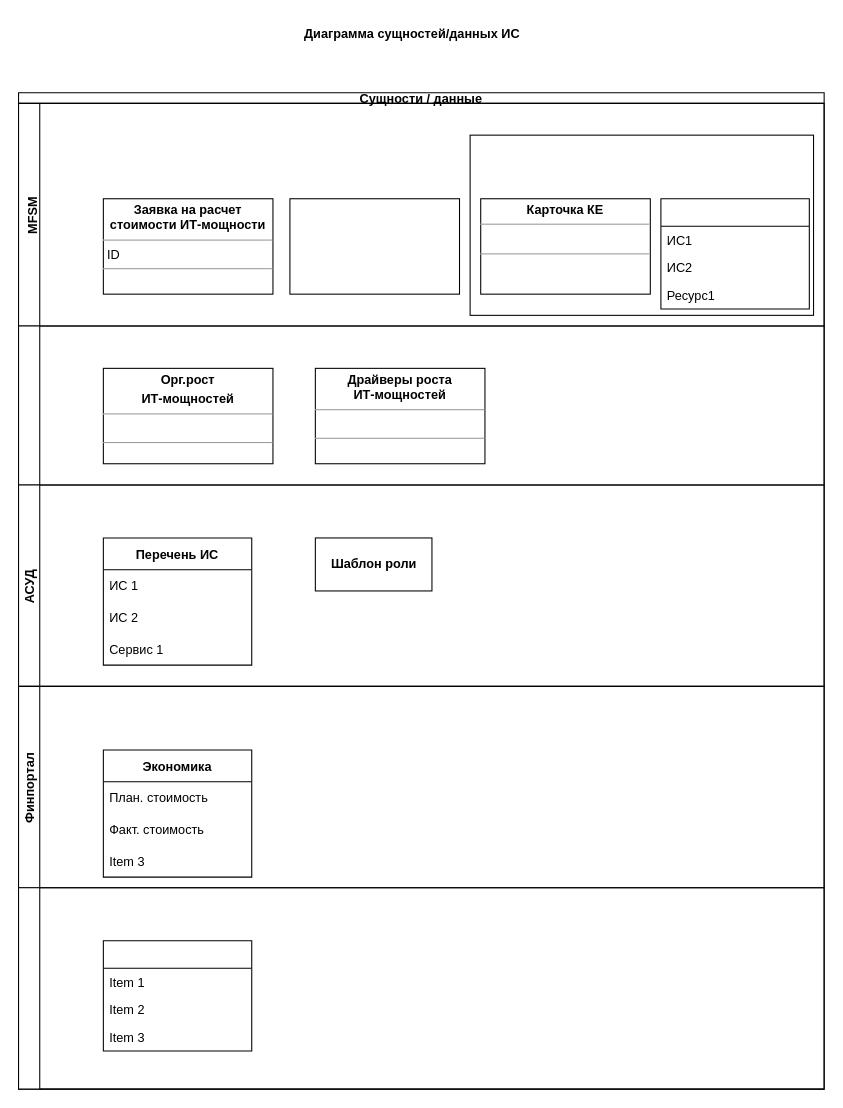
The diagram is 843 pixels wide and 1108 high, and some of its shapes have lost their labels. Here are the shapes that lost their labels. From the top down, the box of each, then its label:
(469, 134, 814, 315): CMDB
(289, 198, 460, 294): Заявка на выделение ИТ-мощностим ID
(660, 198, 809, 309): Каталог IT-ресурсов
(17, 325, 824, 485): АСУМ
(102, 940, 252, 1051): Арх. артефакты
(17, 887, 824, 1089): MatrixX5
